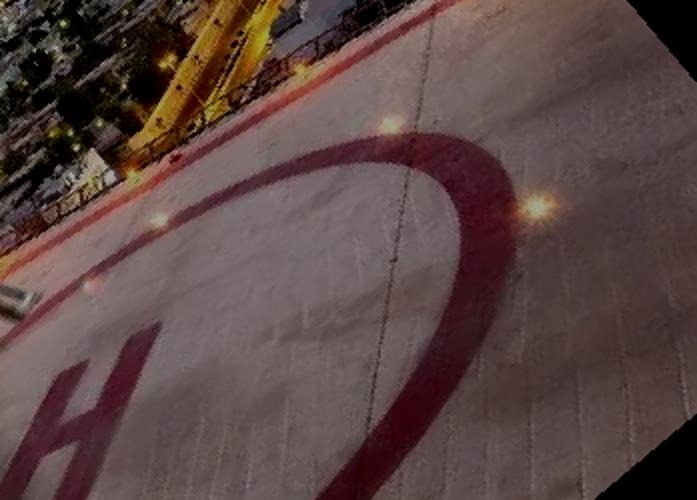Apron: (1, 142, 469, 490)
